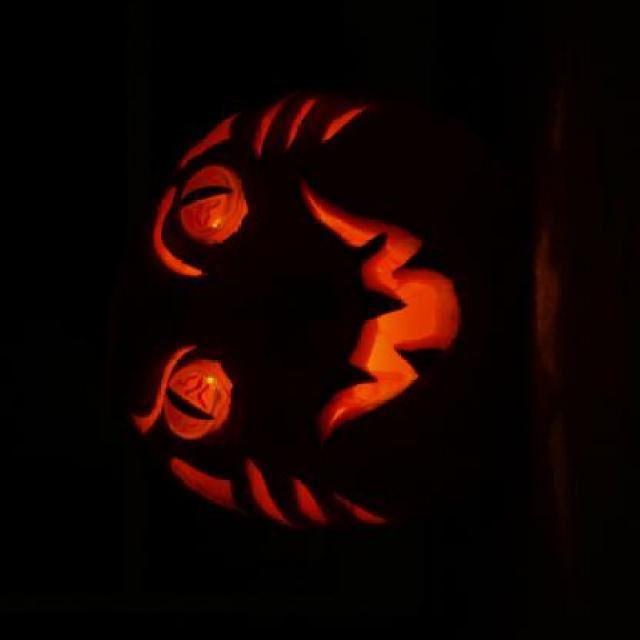Pumpkin: (107, 88, 504, 524)
